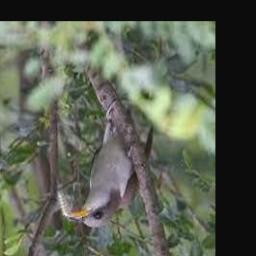Cuckoo: (70, 120, 153, 227)
